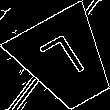L_SE: (38, 32, 94, 90)
